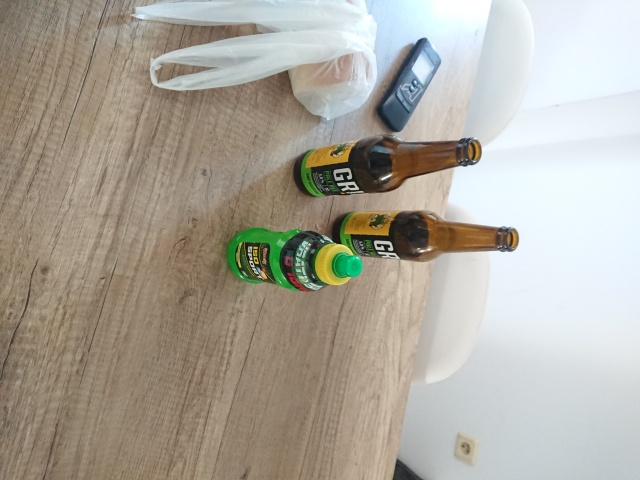Vindi Iso Sport Lemon-Grapefruit 500mL: (223, 225, 366, 295)
